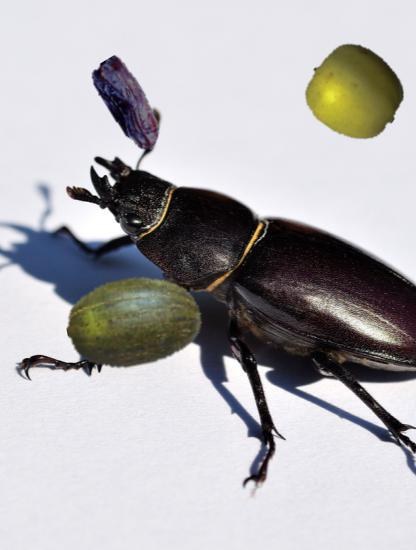Apple: (308, 45, 403, 140)
Dates: (79, 55, 179, 155)
Melon: (66, 253, 204, 391)
